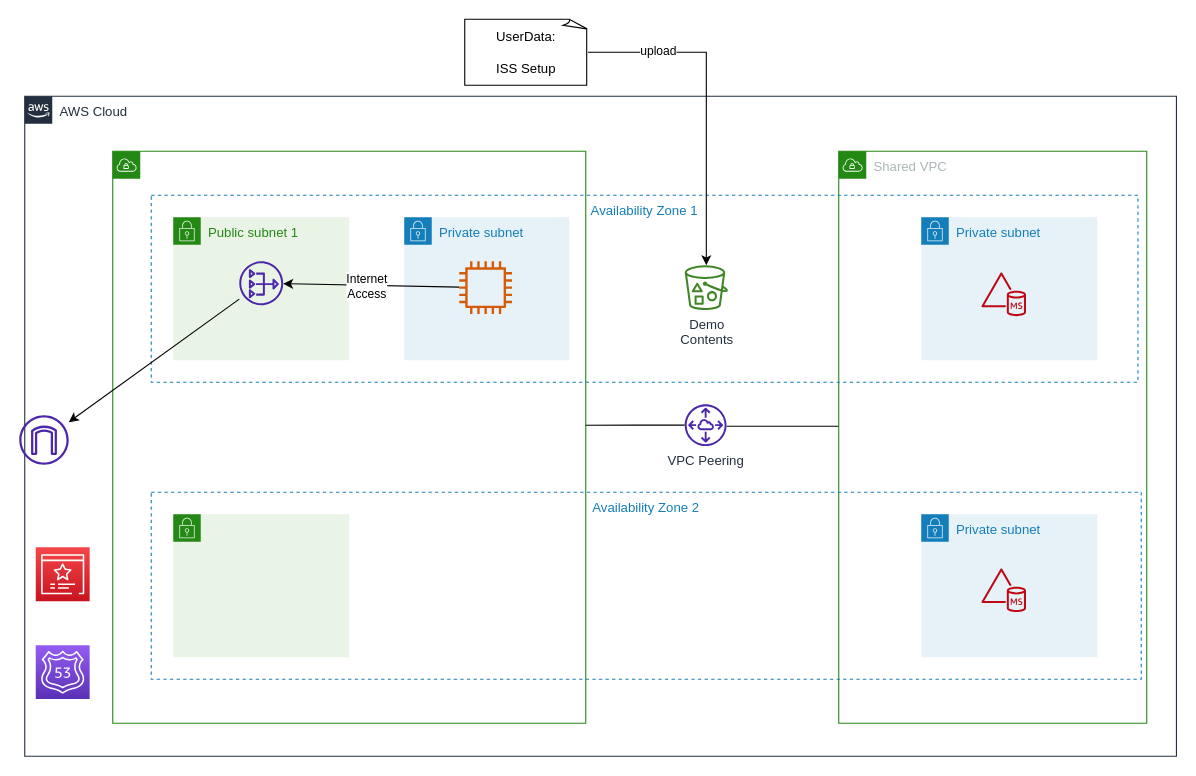
Some shapes in this 1196 by 776 pixel diagram are drawn without their labels. Here are the shapes that lost their labels. From the top down, the centre of each, then its label:
point (485, 287): Windows
point (43, 439): IGW
point (349, 436): VPC
point (62, 573): Certificate Manager
point (260, 585): Public subnet 2
point (62, 671): Registered Domain
